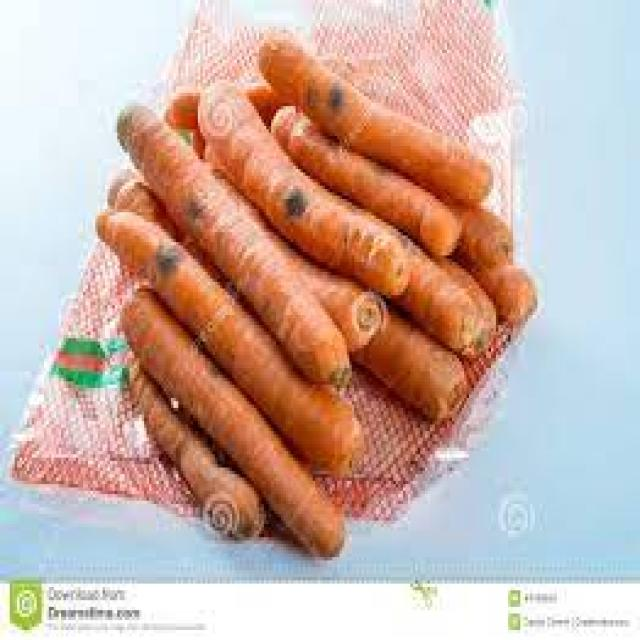Stale_Carrot: (109, 93, 365, 415), (196, 64, 435, 285)
